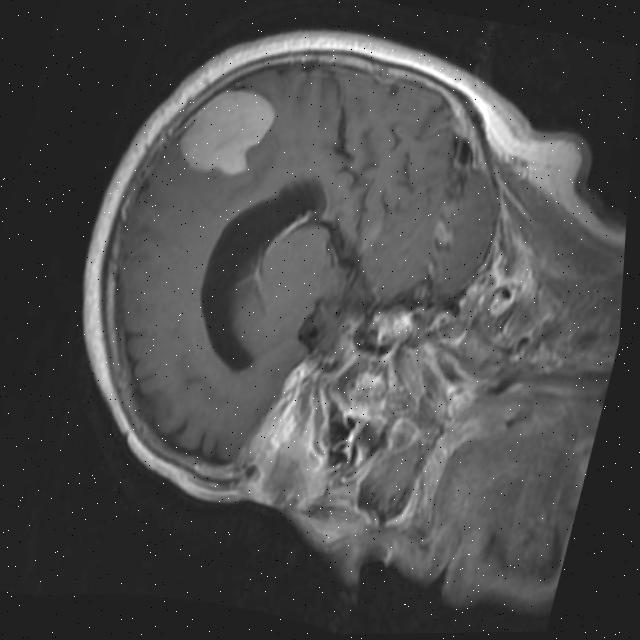Meningioma: (169, 75, 285, 186)
